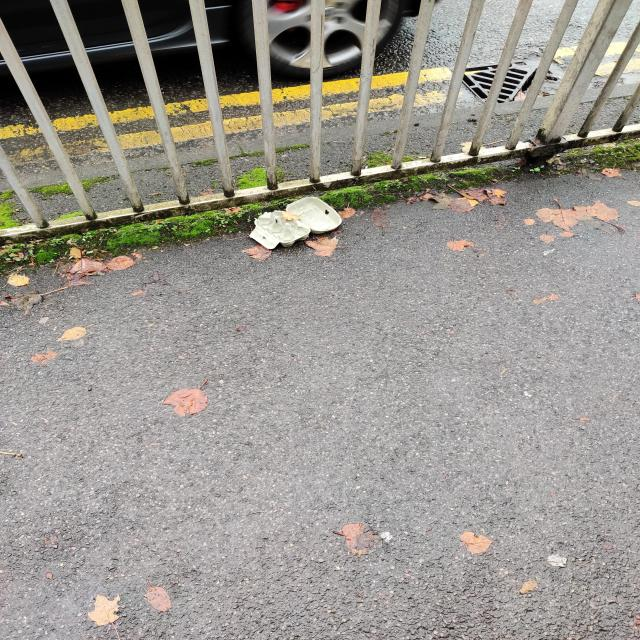litter: (243, 189, 360, 255)
